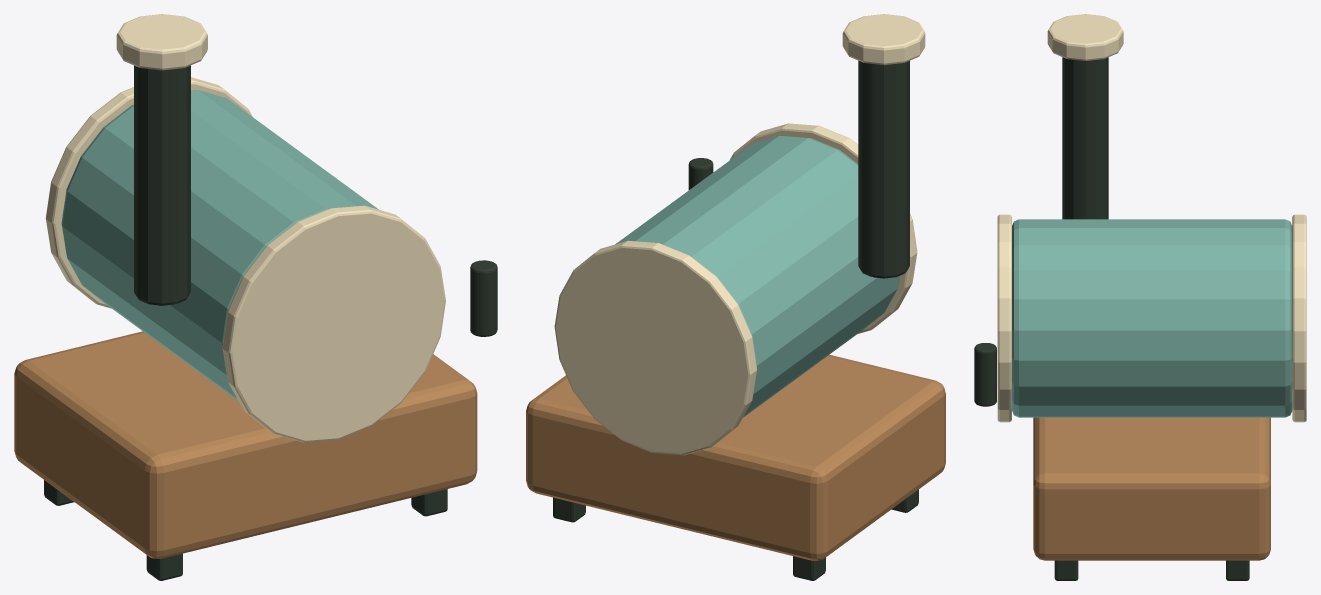
Rendered from SM_FixDrum.fbx.
3 renders of one model, left to right at view 1: azimuth 30°, elevation 25°; view 2: azimuth 150°, elevation 25°; view 3: azimuth 270°, elevation 25°, orthographic. The views are drawn at different scales.
Visible parts, largest first — view 1: FixMesh; view 2: FixMesh; view 3: FixMesh.
Boxes of the visible parts, x1,y1,x2,y2 form: FixMesh: [14, 14, 497, 580]; FixMesh: [526, 14, 945, 580]; FixMesh: [974, 14, 1306, 580].
Size of the model in its own units: 1.34 by 2.06 by 1.4.
